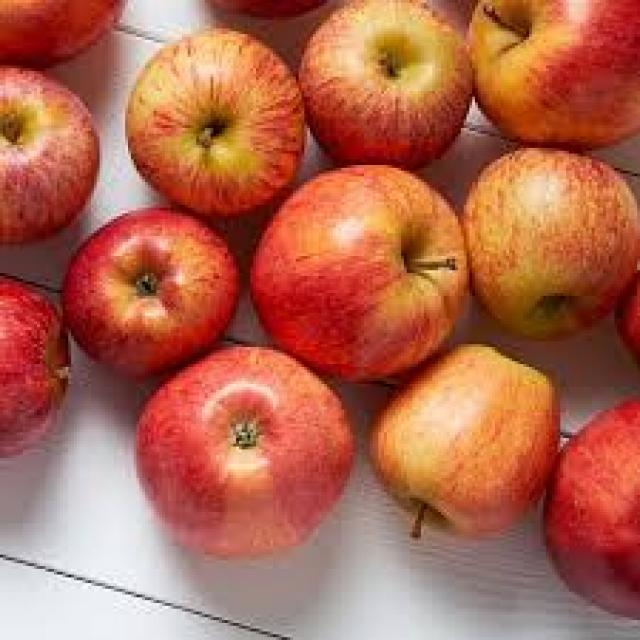apple: (134, 341, 364, 566), (250, 162, 481, 378), (367, 336, 563, 552), (461, 145, 640, 344), (122, 28, 308, 214), (65, 202, 242, 378), (296, 3, 472, 168), (463, 3, 640, 148), (552, 404, 640, 631), (3, 60, 99, 256), (2, 268, 80, 467)
